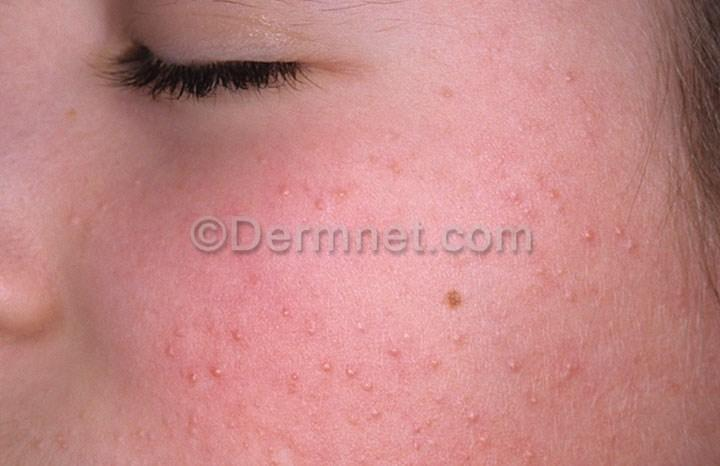edema 1: (119, 52, 661, 465)
